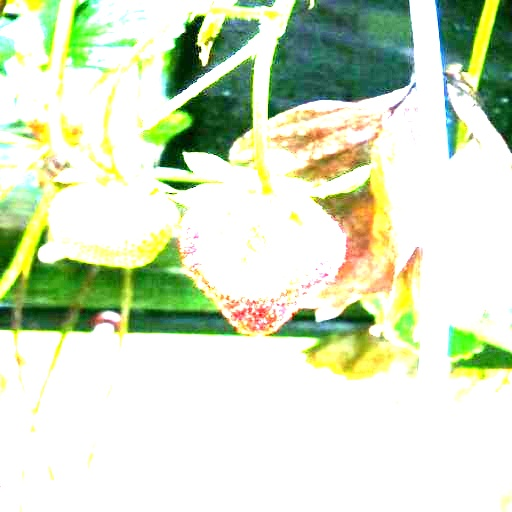Powdery Mildew Fruit: (179, 197, 324, 309)
